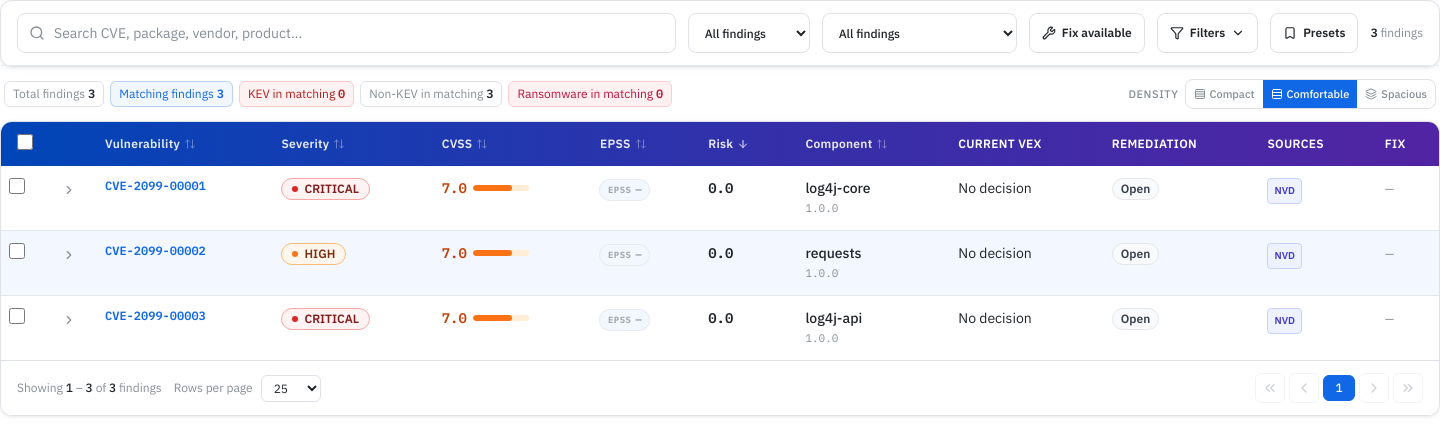
FindingsTable — selection persists across filter changes › "Select all" only adds findings visible under the active filter
The width and height of the screenshot is (1440, 434).
# Apply a search filter that hides finding 2.
Type "log4j" into the search field with placeholder "Search CVE, package, vendor, product..." at (346, 33), box [17,13,676,53]
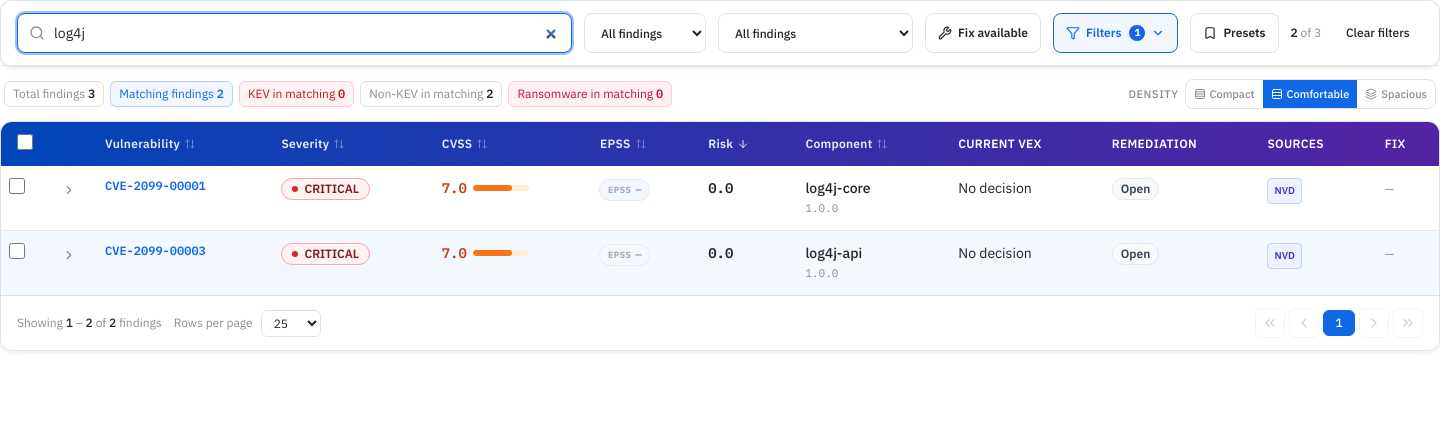
# Click "Select all" — only findings 1 and 3 should be selected.
Click the checkbox with test id "findings-select-all" at (25, 142), box [17,134,33,150]
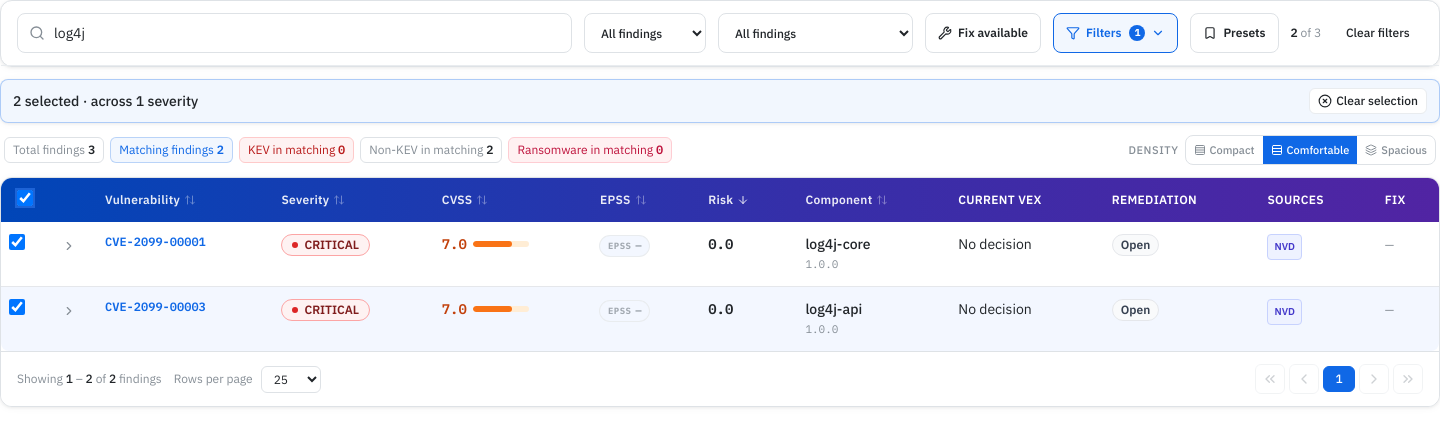
Check: the text with test id "selection-summary" reads "2 selected · across 1 severity", box [13,92,198,110]
